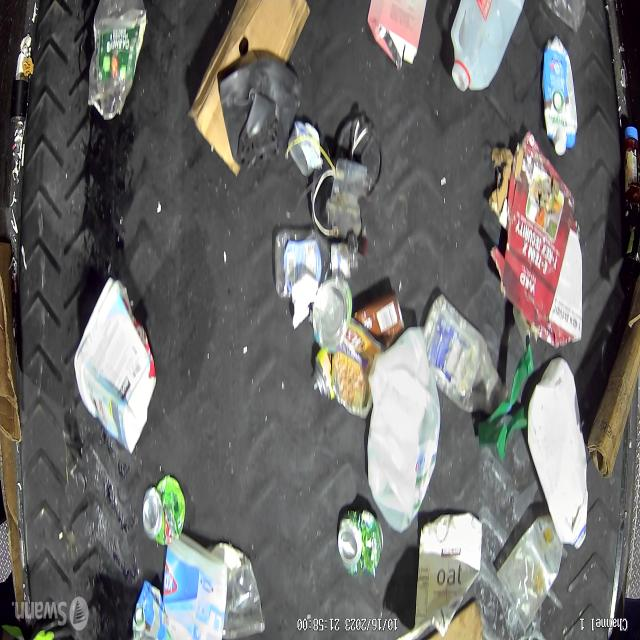can: (310, 288, 406, 404), (139, 472, 187, 546), (336, 507, 385, 579), (311, 276, 353, 352), (310, 156, 340, 238), (286, 118, 323, 178)
milk_jug: (365, 323, 442, 533), (527, 352, 590, 554), (450, 0, 526, 97)
plastic_bottle: (421, 294, 512, 419)
